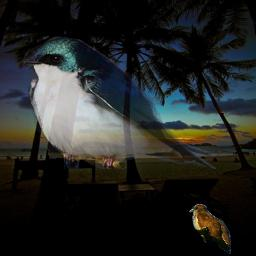Cuckoo: (189, 204, 231, 254)
Swallow: (20, 35, 216, 169)
